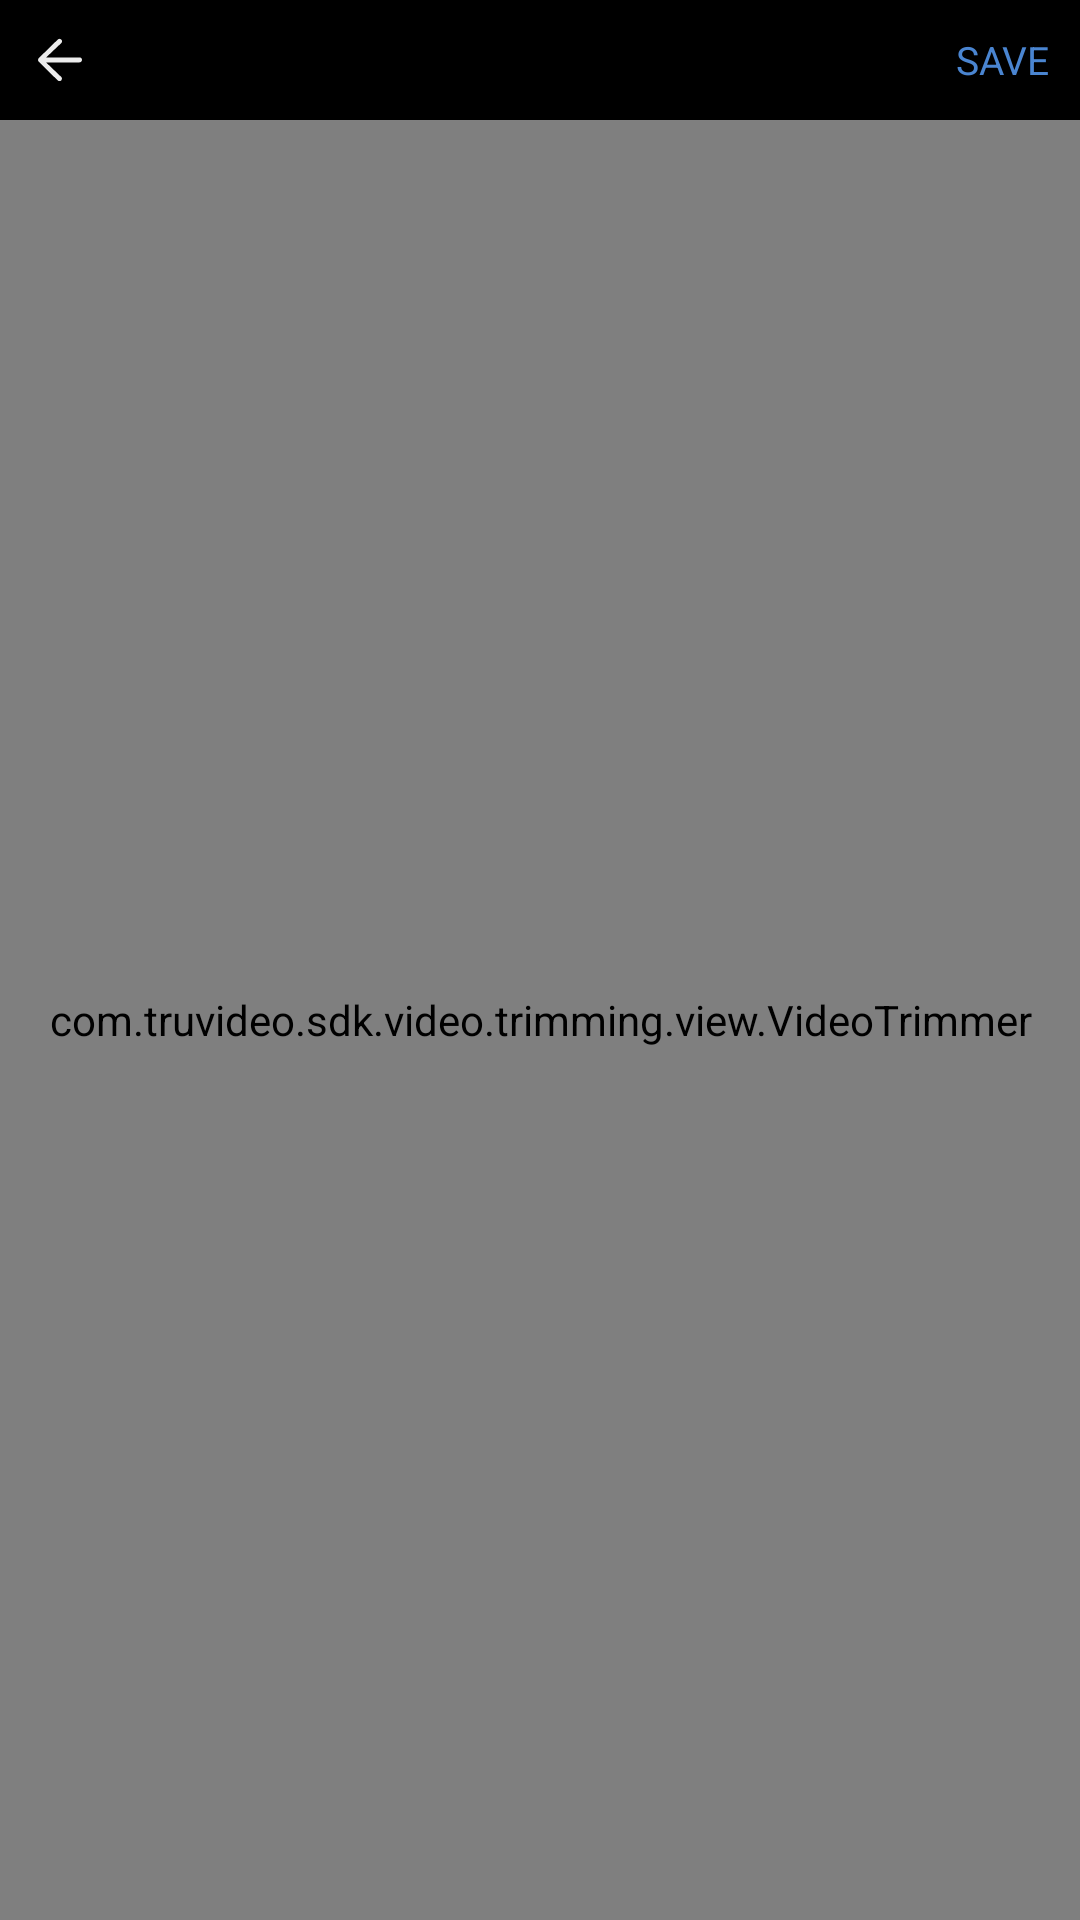

Named icons in this screenshot (1080w x 1920h) and their bounding boxes, (x1, y1, x2, y2):
back: (38, 38, 82, 81)
